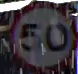Speed limit: (8, 0, 75, 68)
